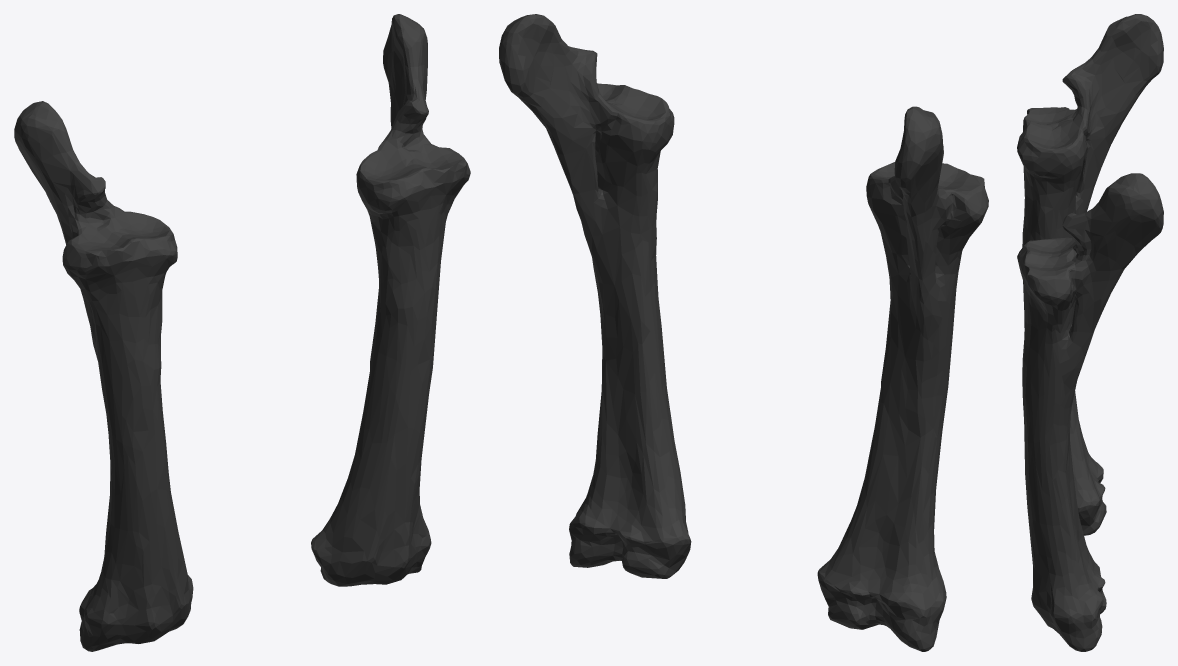
Rendered from skel_radius_ulna.glb.
3 renders of one model, left to right at view 1: azimuth 30°, elevation 25°; view 2: azimuth 150°, elevation 25°; view 3: azimuth 270°, elevation 25°, orthographic. The views are drawn at different scales.
Parts seen in each view (by area): view 1: skel_radius_ulna; view 2: skel_radius_ulna; view 3: skel_radius_ulna.
Part boxes in pixels (box(x1,y1,x2,y2)): skel_radius_ulna: box(14, 14, 470, 651); skel_radius_ulna: box(499, 14, 988, 651); skel_radius_ulna: box(1017, 14, 1163, 651).
Size of the model in its own units: 0.00603 by 0.00758 by 0.00208.
Materials: 1 (1 with a texture image).
